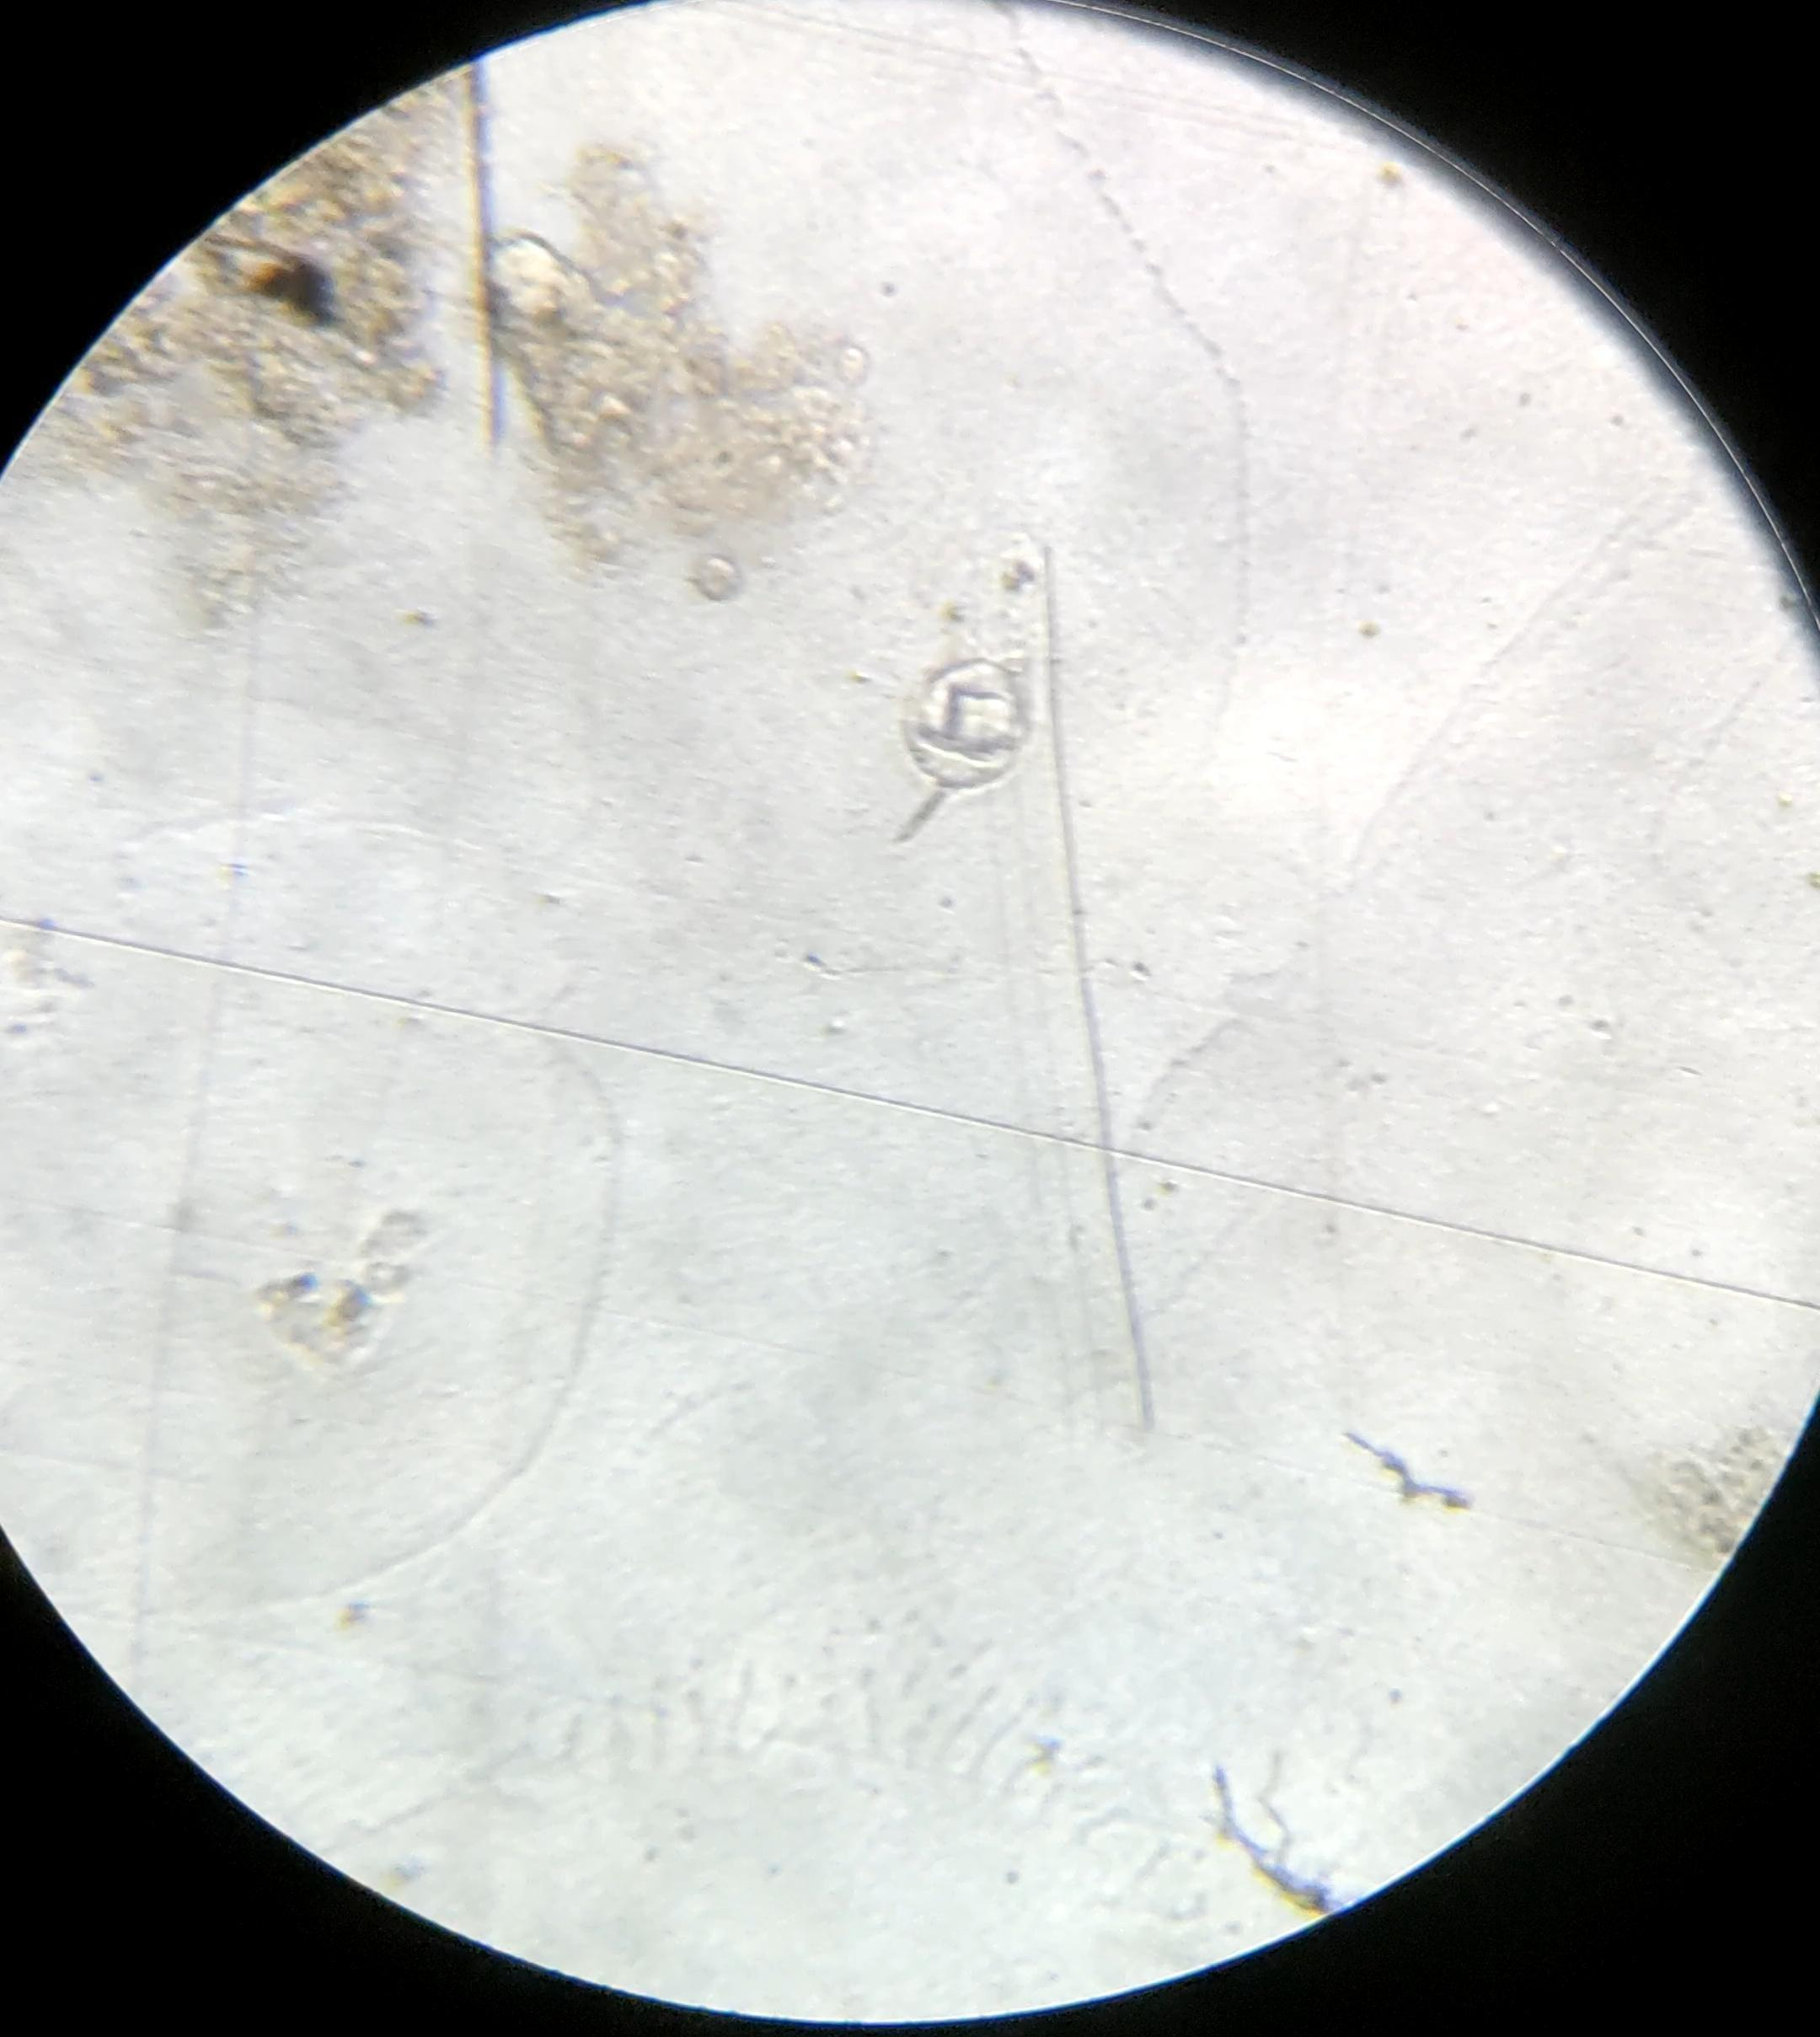Mo: (892, 629, 1029, 844)
